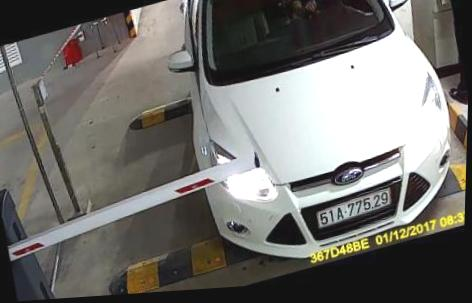License_Plate: (312, 189, 394, 231)
